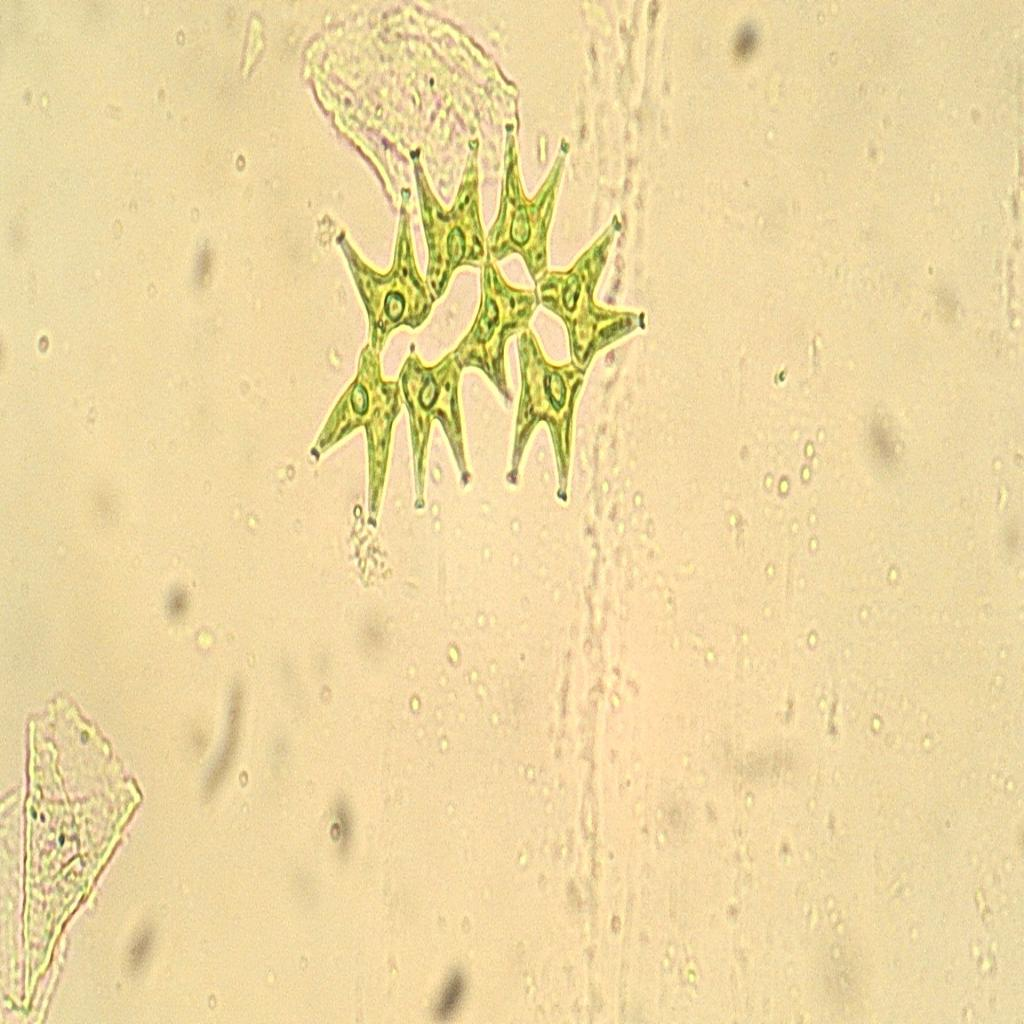Pediastrum_CFI: (301, 93, 651, 547)
